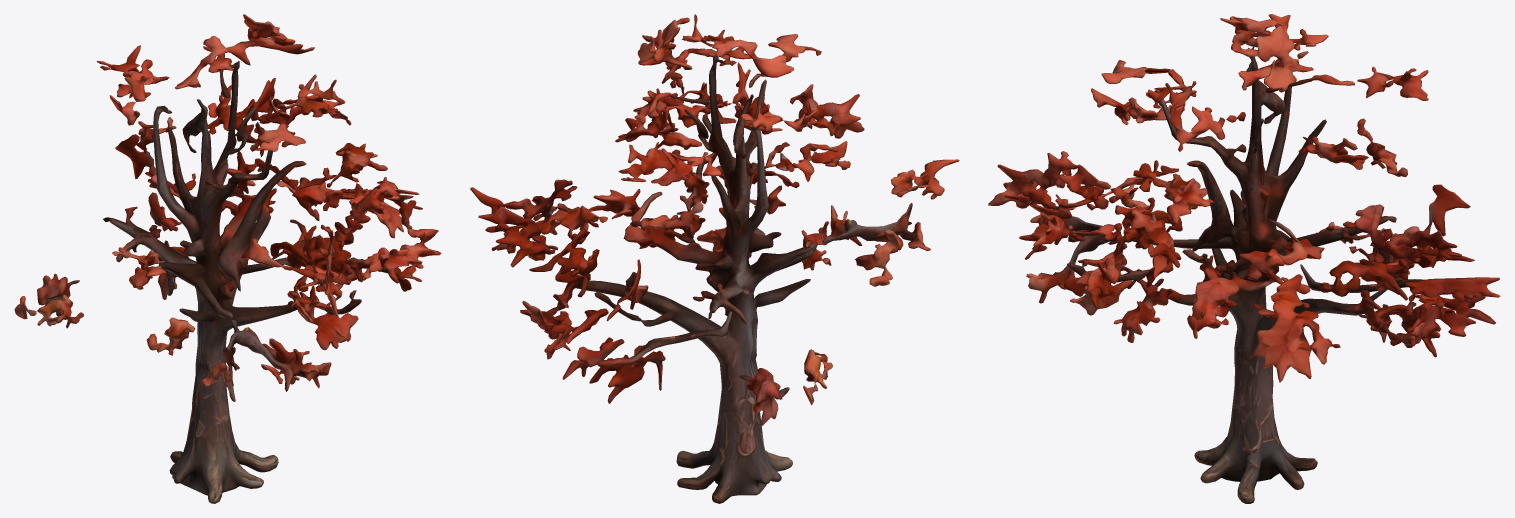
The model's file is nature-tree-maple.glb.
The picture shows the model from 3 angles, left to right: view 1: azimuth 30°, elevation 25°; view 2: azimuth 150°, elevation 25°; view 3: azimuth 270°, elevation 25°; orthographic projection. The views are drawn at different scales.
Visible parts, largest first — view 1: tripo_node_96297491-f03f-485d-aed0-f9c0abe75607; view 2: tripo_node_96297491-f03f-485d-aed0-f9c0abe75607; view 3: tripo_node_96297491-f03f-485d-aed0-f9c0abe75607.
Part boxes in pixels (bbox=[...]): tripo_node_96297491-f03f-485d-aed0-f9c0abe75607: bbox=[14, 14, 441, 503]; tripo_node_96297491-f03f-485d-aed0-f9c0abe75607: bbox=[470, 14, 959, 503]; tripo_node_96297491-f03f-485d-aed0-f9c0abe75607: bbox=[988, 14, 1500, 503].
Bounding box in the file's own units: 5.91 × 7 × 6.9.
Materials: 1 (1 with a texture image).
